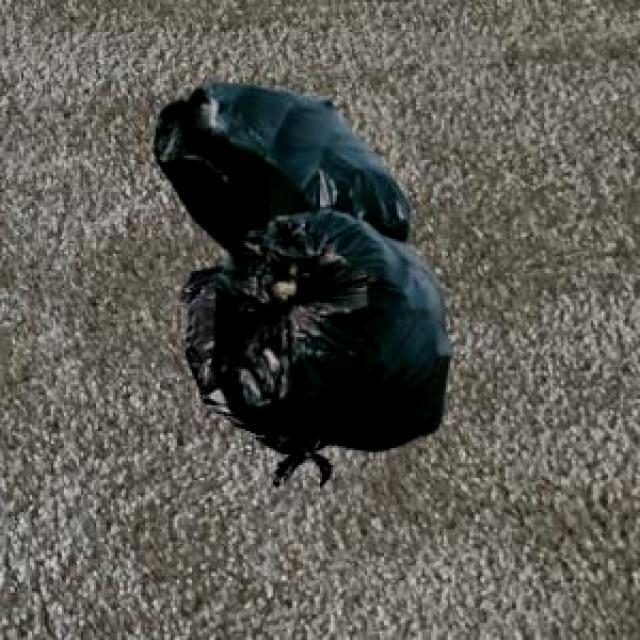Trashbag: (217, 207, 453, 458), (146, 75, 414, 246)
